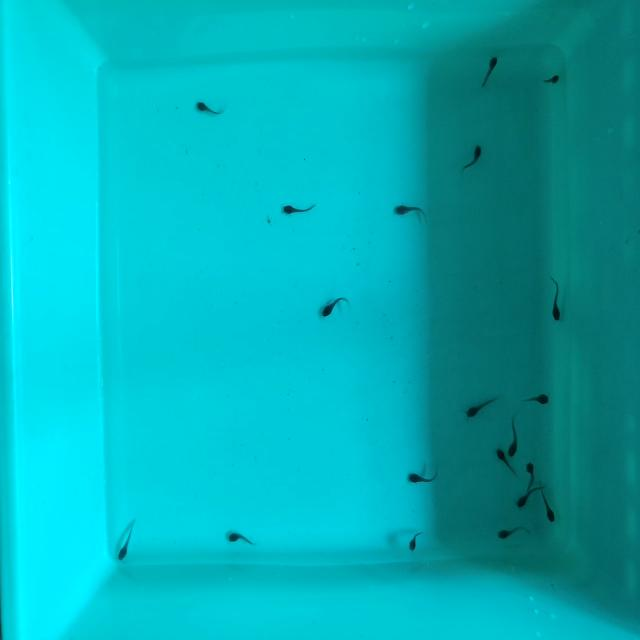lele: (117, 519, 143, 562), (462, 393, 498, 423), (479, 52, 503, 93), (318, 290, 349, 321), (539, 476, 559, 524), (494, 443, 519, 480), (515, 481, 545, 510), (463, 143, 487, 174), (550, 276, 562, 322), (406, 528, 424, 555), (496, 525, 529, 539), (393, 203, 425, 217), (228, 531, 256, 547), (196, 101, 226, 115), (508, 415, 518, 456), (409, 471, 439, 484), (520, 393, 549, 406), (282, 203, 316, 214), (525, 459, 535, 487), (542, 74, 560, 86)
